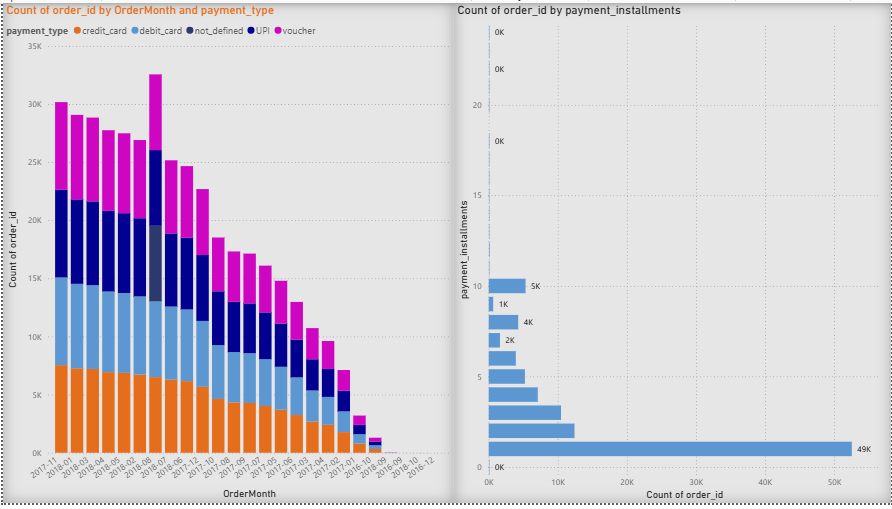

The dashboard page shown, as its layout file describes it:
{"tool":"powerbi","page":{"name":"Payment Analysis","canvas":[1280,720],"ordinal":3},"visuals":[{"type":"columnChart","fields":{"Category":["orders.OrderMonth"],"Series":["payments.payment_type"],"Y":["CountNonNull(orders.order_id)"]},"box":[0,0,649.4,720],"z":0},{"type":"clusteredBarChart","fields":{"Y":["CountNonNull(payments.order_id)"],"Category":["payments.payment_installments"]},"box":[650.1,0,629.9,720.6],"z":1000}]}

Visuals, with their boxes in screenshot pixels (x1, y1, x2, y2), scaled from the page's 1280x720 canvas onto the 892x509 screenshot:
columnChart - orders.OrderMonth x payments.payment_type: pyautogui.locateOnScreen(0, 0, 453, 508)
clusteredBarChart - CountNonNull(payments.order_id) x payments.payment_installments: pyautogui.locateOnScreen(453, 0, 891, 508)
